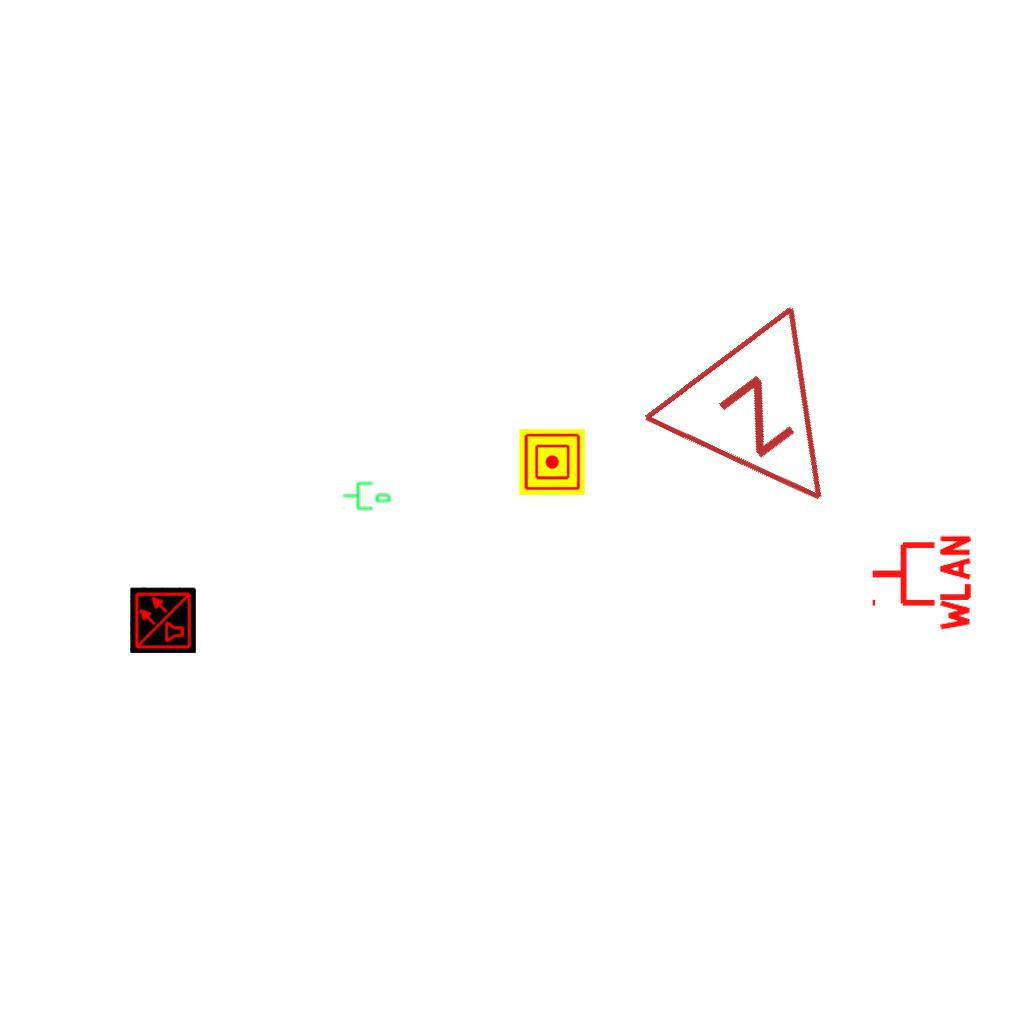Datenanschluss_einfach: (342, 478, 392, 512)
NAM-Nichtautomatischer_Melder: (519, 429, 585, 495)
OKW_Multisensormelder_(Kombination_optischer_Rauch-Kahlenmonoxid_Waerme-Melder): (130, 587, 196, 653)
WLAN: (868, 531, 973, 635)
Zimmersignalleuchte: (631, 289, 909, 567)
